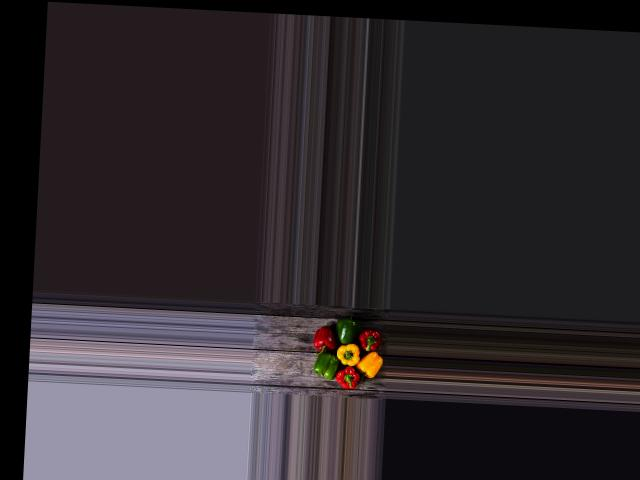bell_pepper: (357, 328, 387, 356)
